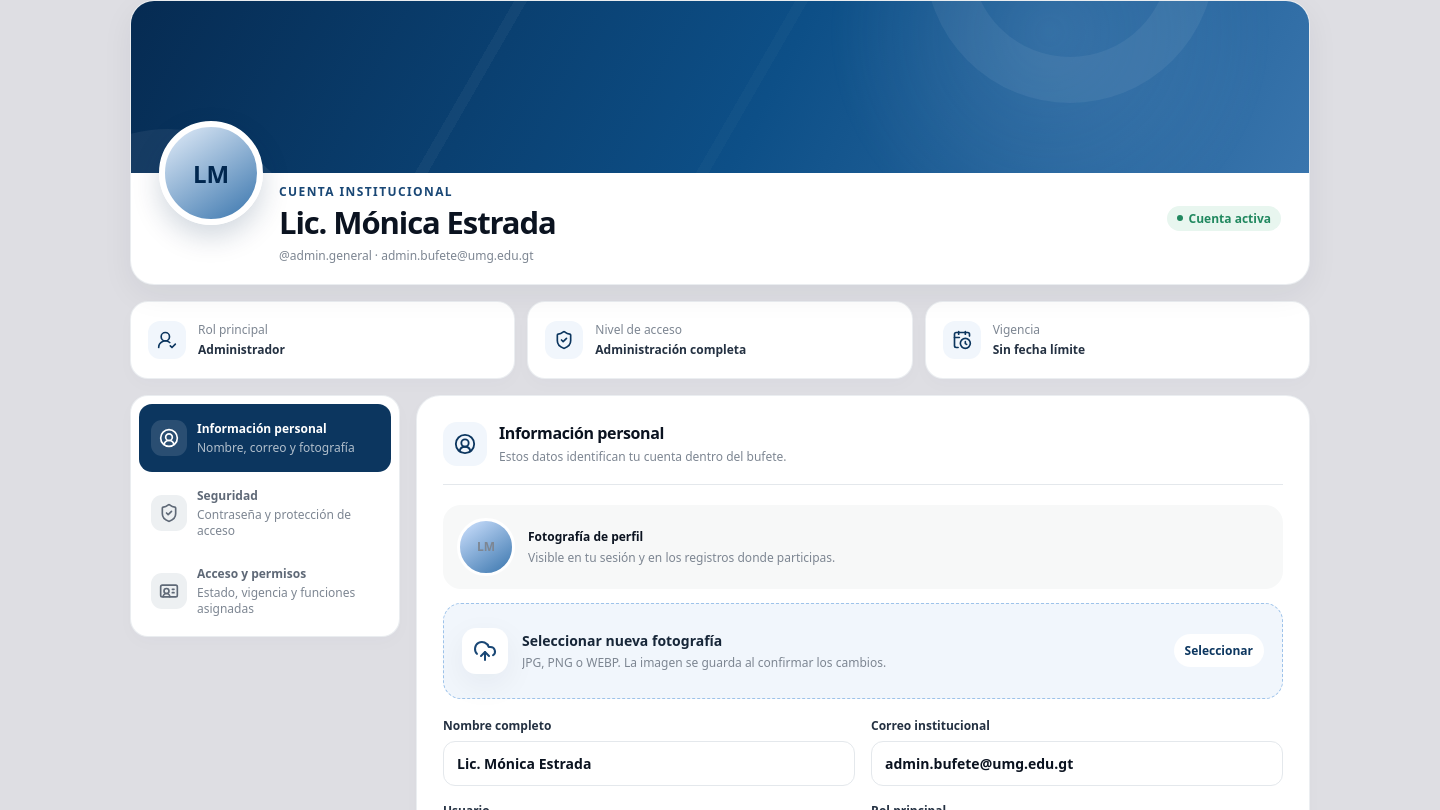
it: módulo de cuenta › presenta identidad, edición, seguridad y permisos en secciones claras
Expected: the heading "Lic. Mónica Estrada" is shown, [279,201,556,243]
Expected: the navigation bar named "Secciones de la cuenta" is shown, [130,395,400,637]
Step 1. Click the button "Seguridad Contraseña y protección de acceso" → {"x": 265, "y": 513}, box [139,476,391,550]
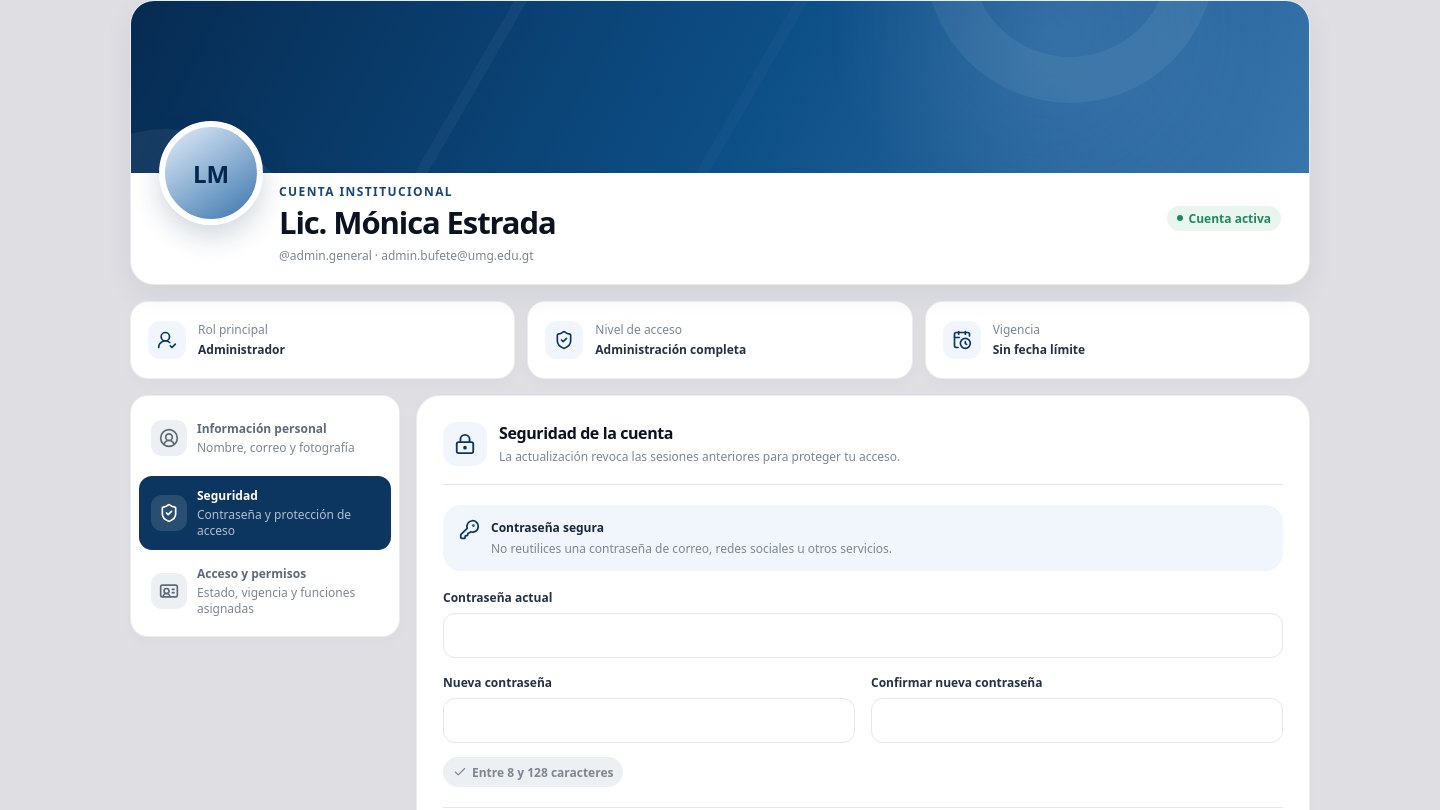
Now the heading "Seguridad de la cuenta" is shown, box [499,422,673,444]
Step 2. Click the button "Acceso y permisos Estado, vigencia y funciones asignadas" → {"x": 265, "y": 591}, box [139,554,391,628]
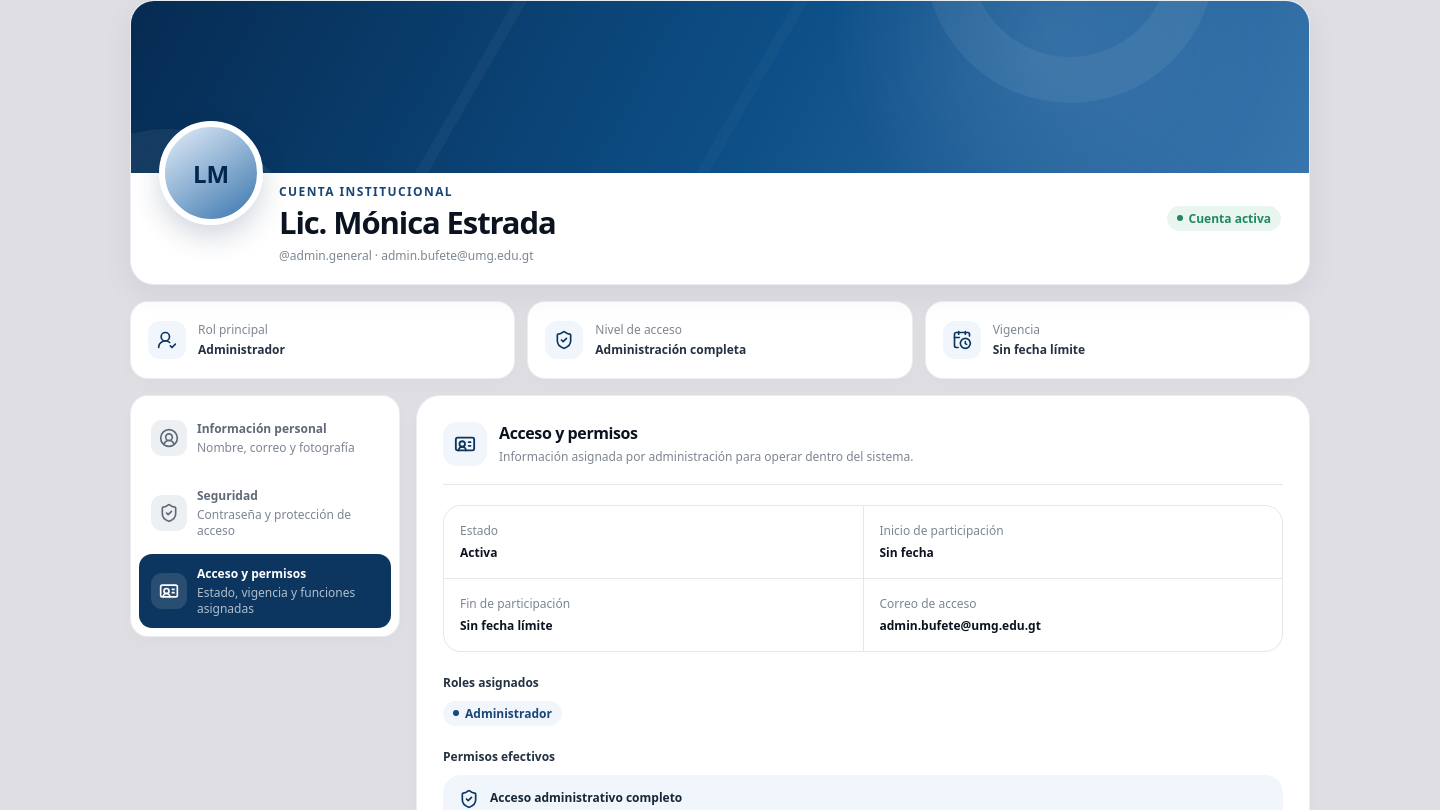
Now the heading "Acceso y permisos" is shown, box [499,422,638,444]
Now the text "Acceso administrativo completo" is shown, box [490,789,682,806]
